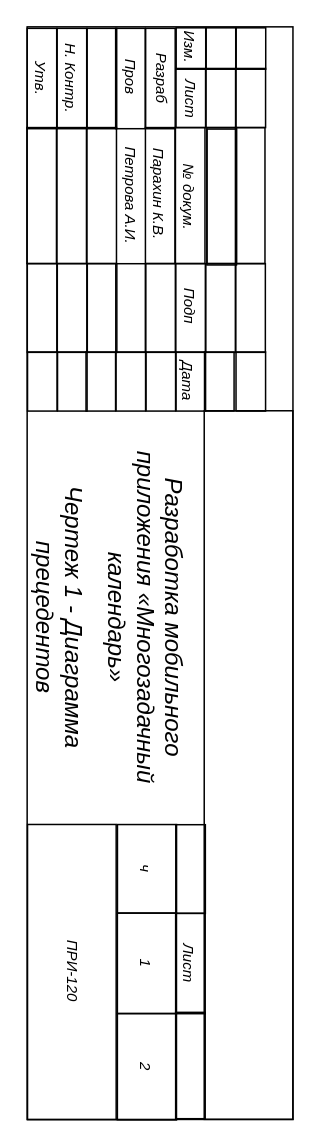
The diagram is 320 pixels wide and 1146 high, and some of its shapes have lost their labels. The centre of each missing label's shape, as x and y in pixels:
"ВлГУ.09.03.04.04.25 Чертеж 1" goes at point 248,764.
"Листов" goes at point 189,1065.
"Лит." goes at point 189,868.
